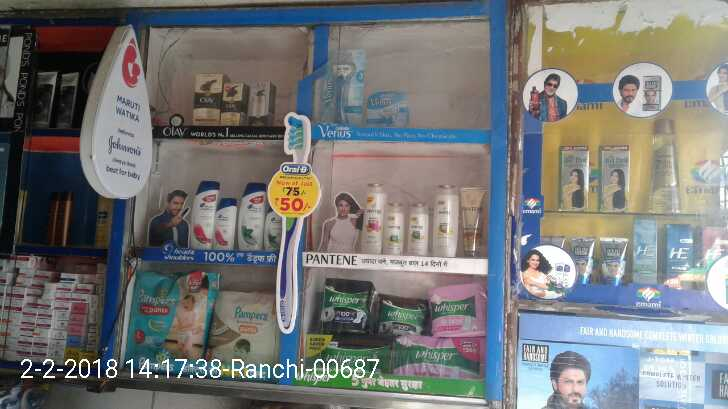venus: (330, 51, 361, 125), (366, 91, 409, 127)
